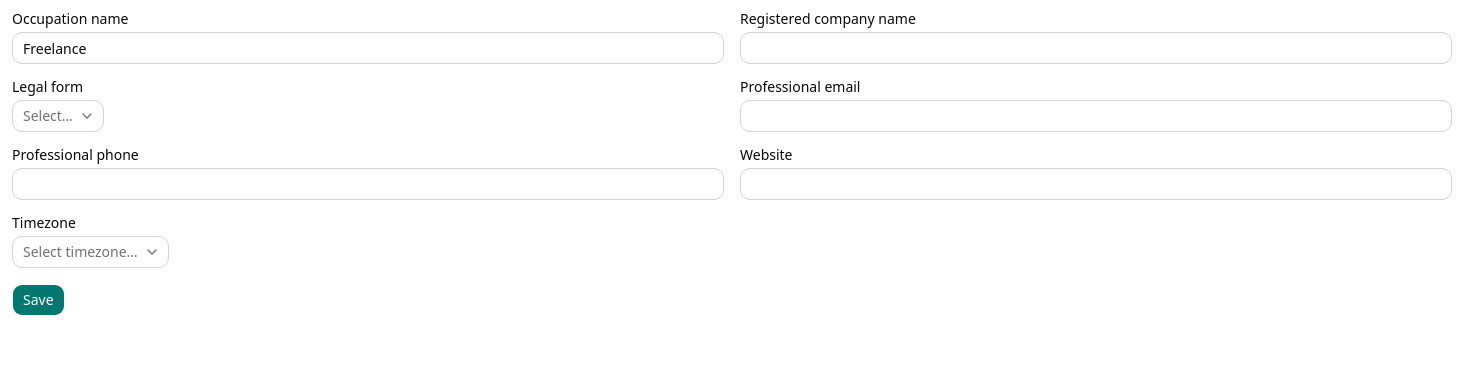
Test case: OccupationInfoForm › blocks submit and shows a validation error for a malformed professional email
Step 1. Type "not-an-email" into the field labelled "Professional email" → (1096, 116), box [740,100,1452,132]
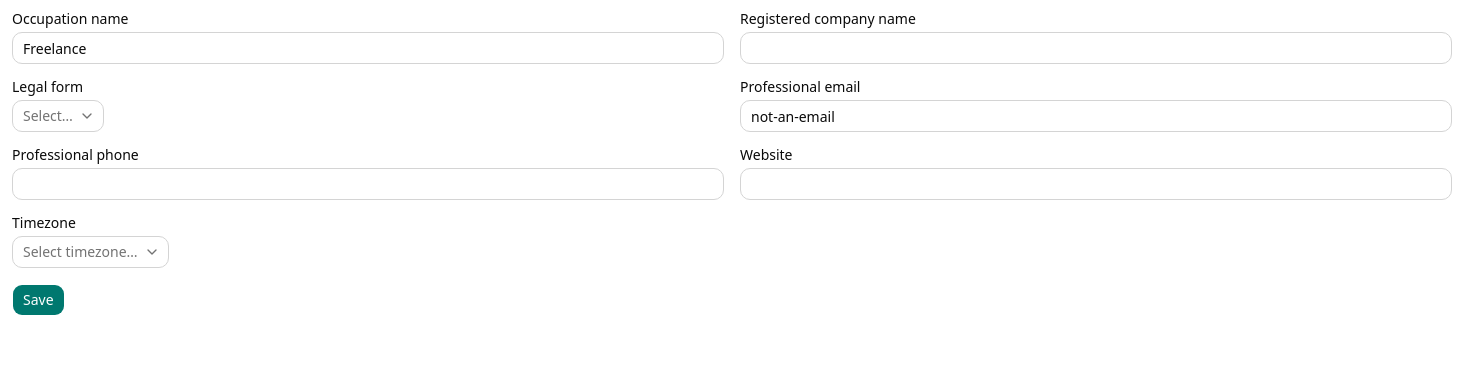
Step 2. Submit the form
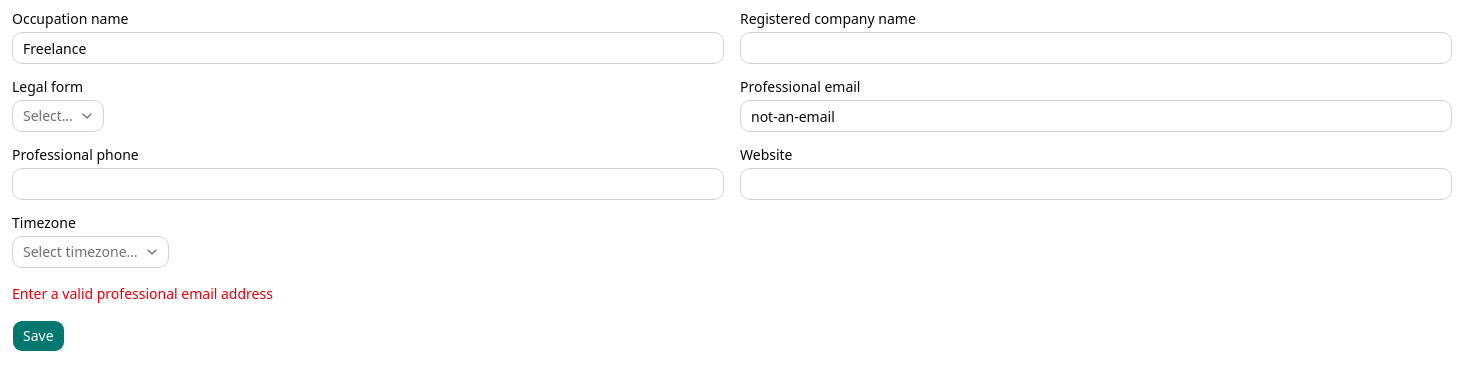
Expected: the text "Enter a valid professional email address" is shown, [12,284,273,303]
